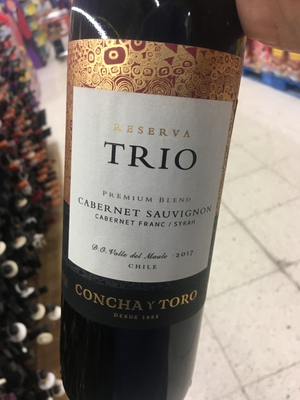trio cabernet sauvignon: (59, 4, 261, 400)
